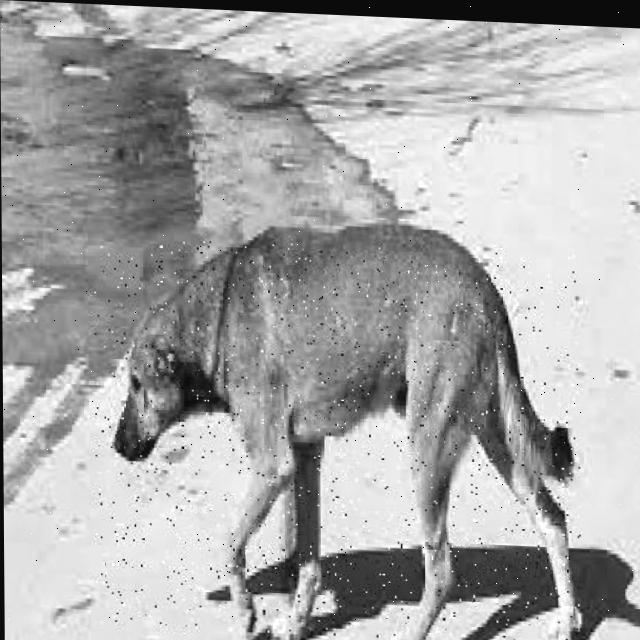Dog: (94, 235, 583, 640)
